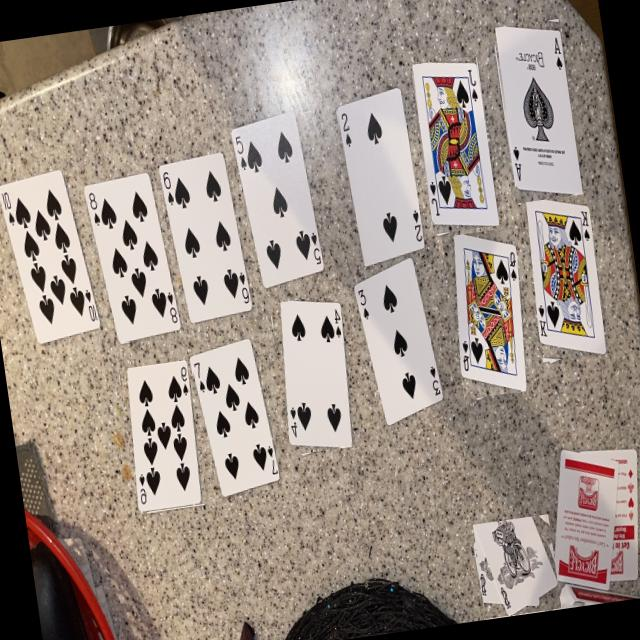10 of spades: (0, 170, 100, 345)
2 of spades: (336, 89, 423, 266)
3 of spades: (354, 258, 442, 425)
4 of spades: (279, 302, 350, 450)
5 of spades: (231, 113, 323, 287)
6 of spades: (159, 152, 251, 322)
7 of spades: (190, 339, 278, 497)
8 of spades: (84, 174, 180, 343)
9 of spades: (126, 362, 200, 513)
Ace of spades: (493, 27, 581, 196)
Jack of spades: (412, 62, 498, 226)
Joker: (473, 517, 557, 616), (472, 536, 492, 613)
King of spades: (526, 198, 605, 354)
Queen of spades: (452, 235, 525, 392)
